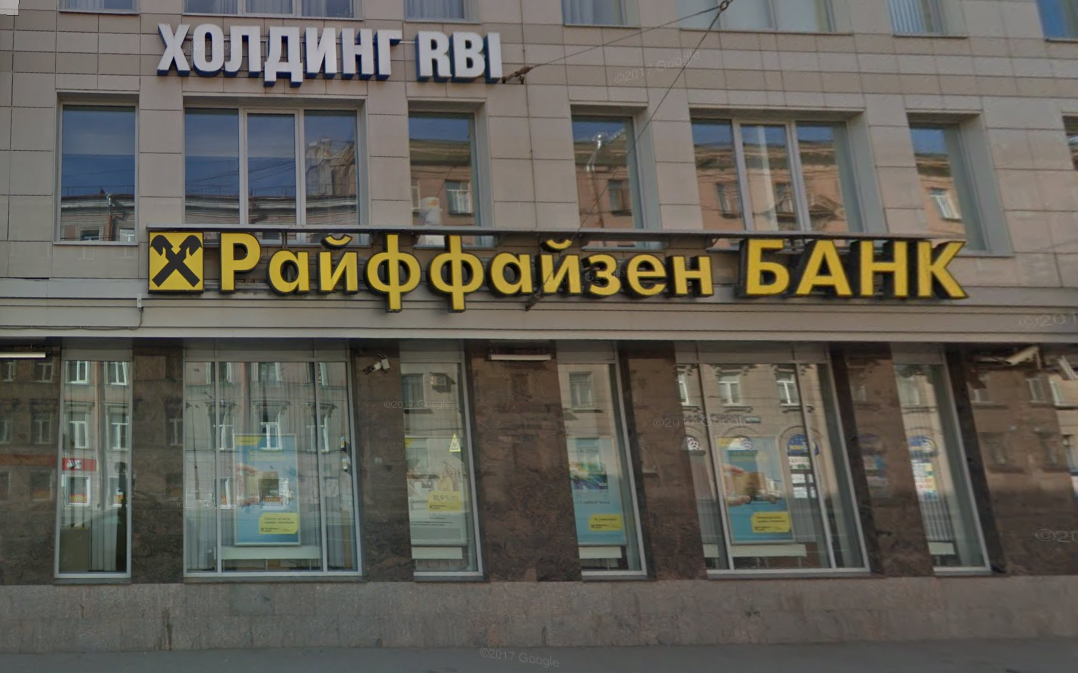signboard: (141, 216, 989, 317), (152, 16, 505, 94)
window: (179, 343, 364, 575), (676, 343, 861, 567), (890, 348, 988, 571), (688, 114, 870, 232), (186, 103, 363, 224), (557, 342, 640, 578), (399, 343, 482, 574), (61, 338, 126, 573), (56, 97, 134, 238), (906, 117, 989, 245), (408, 103, 480, 235), (571, 111, 646, 228)
